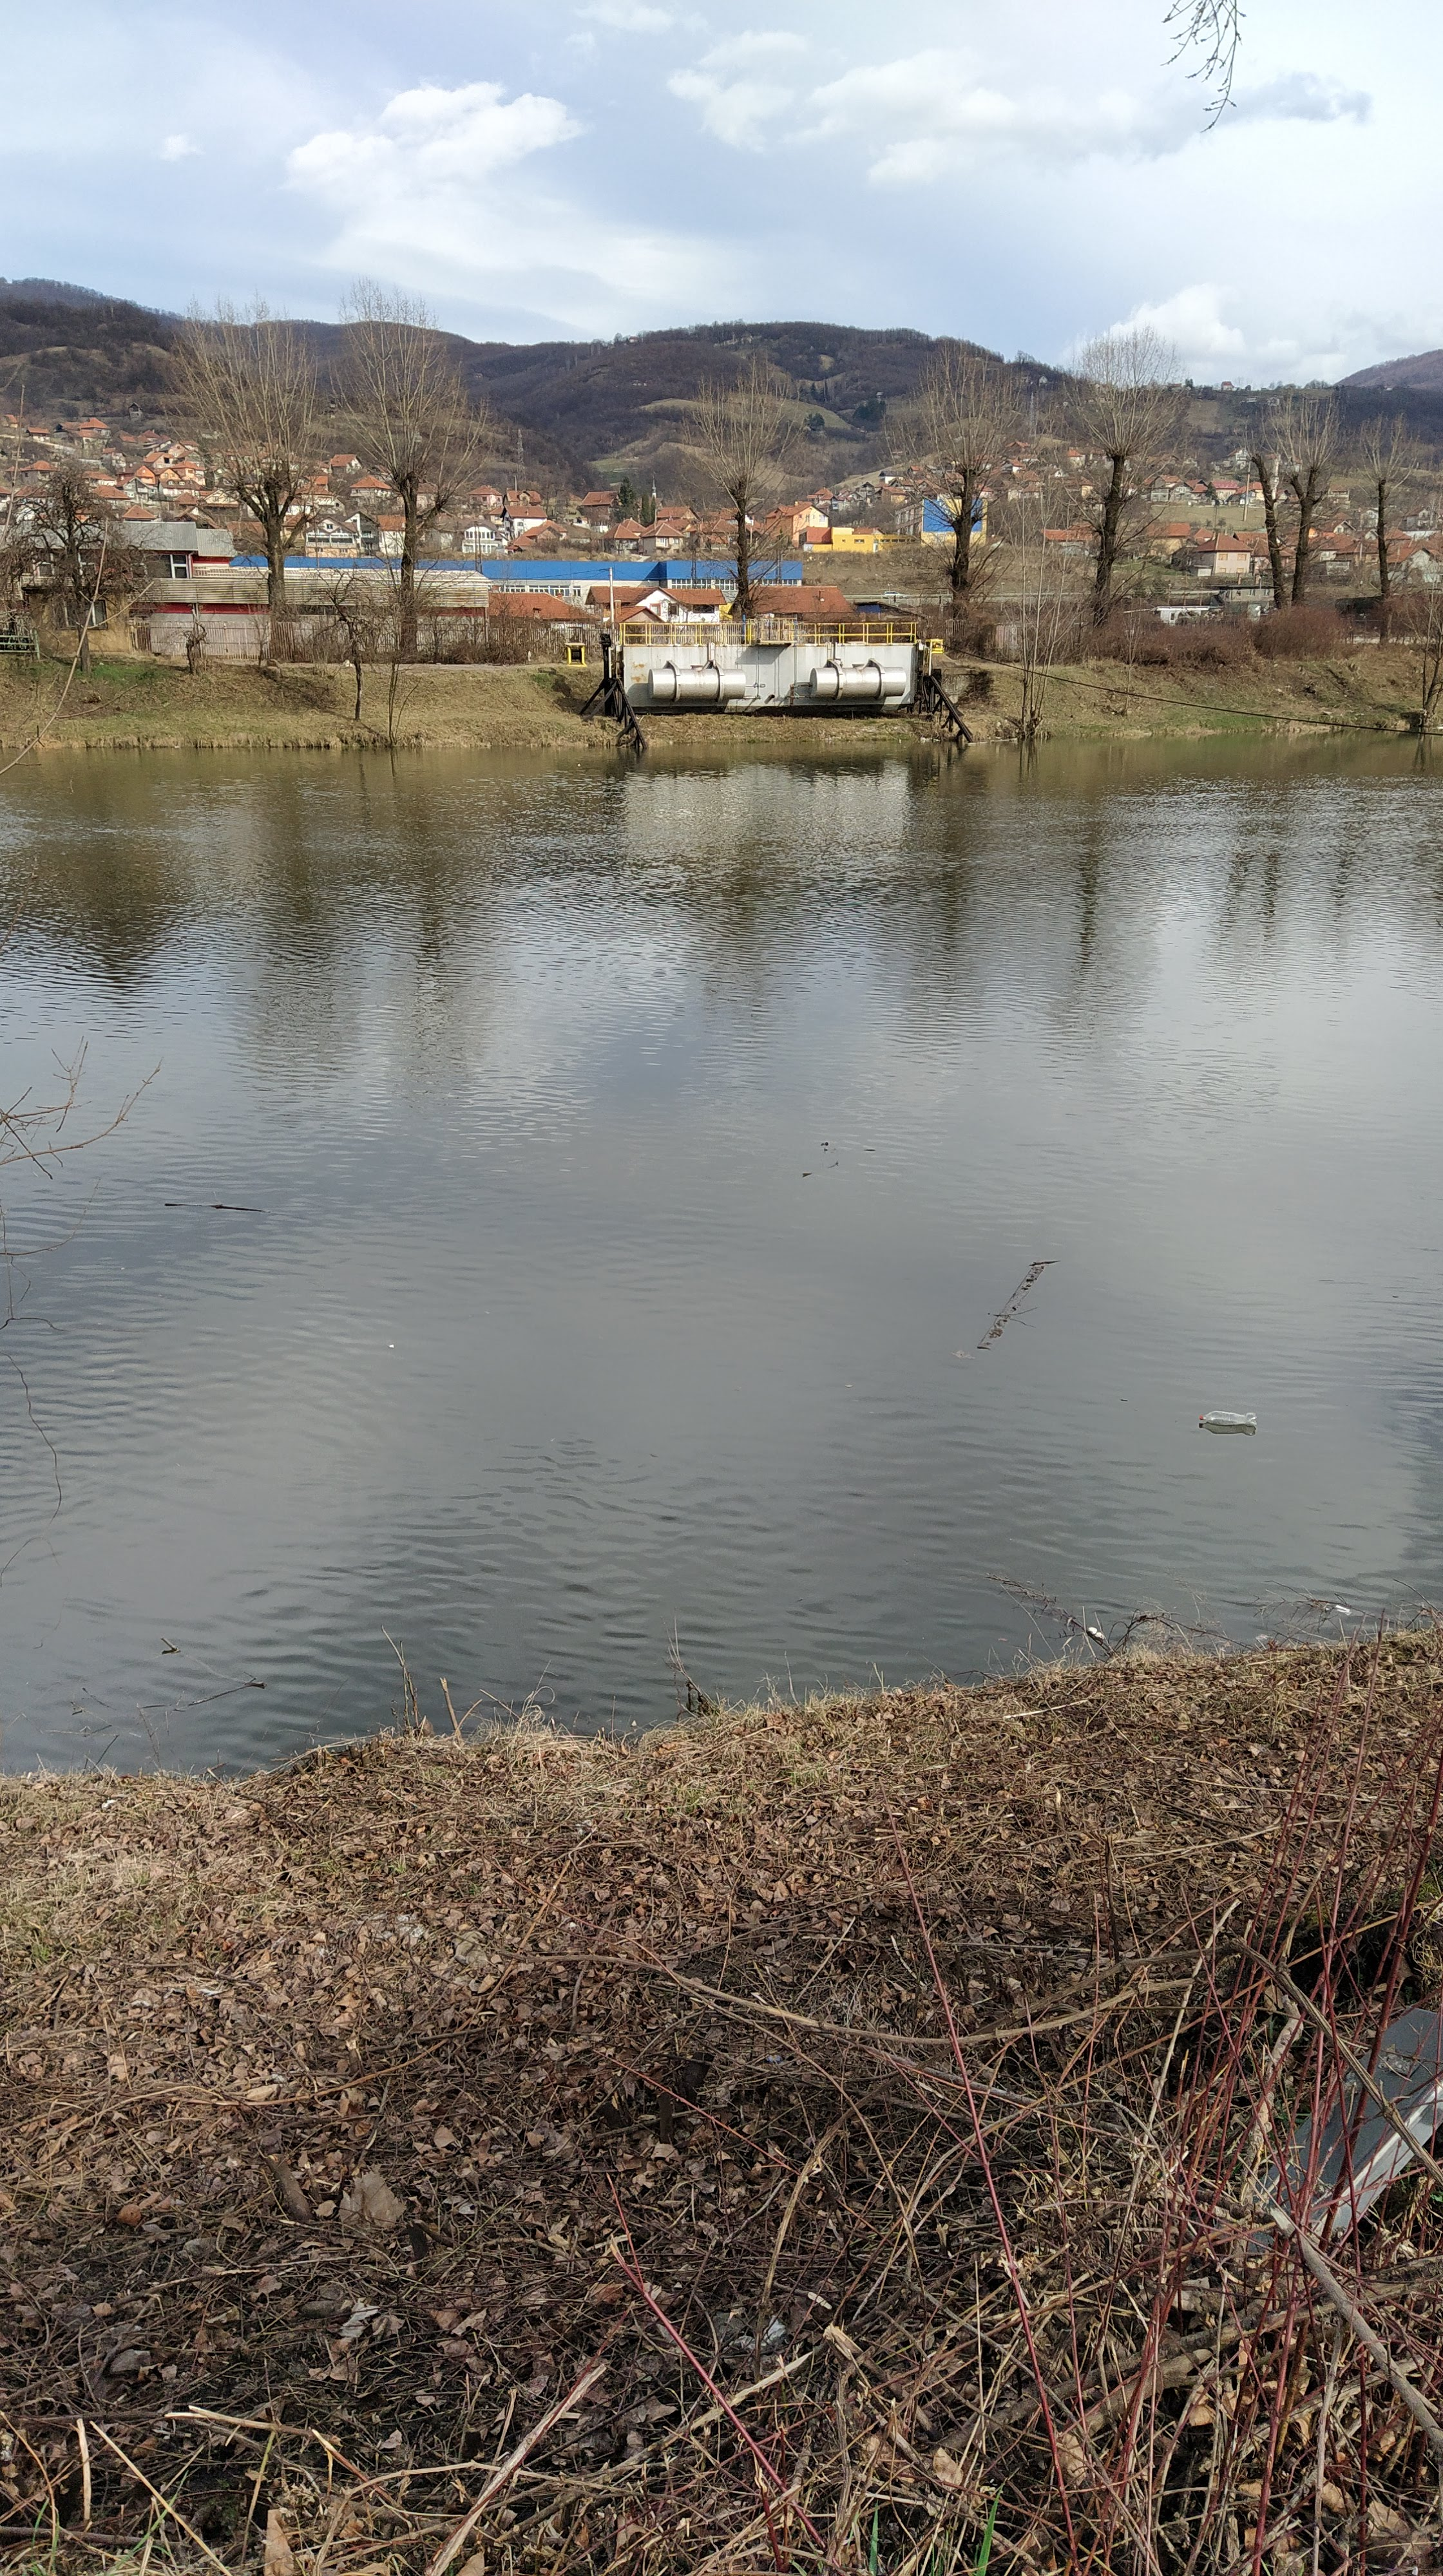Plastic Bottle: (1199, 1412, 1255, 1426)
